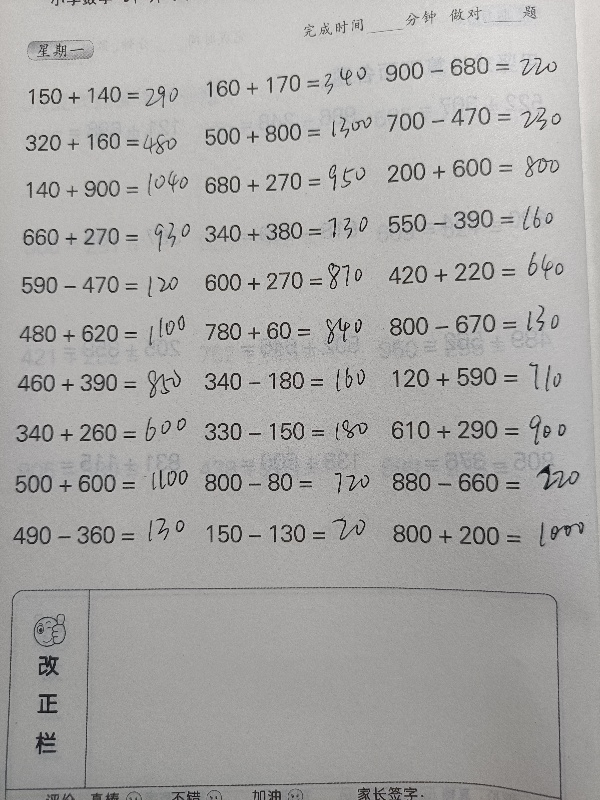equation: (379, 246, 577, 291), (383, 407, 577, 450), (378, 98, 568, 141), (12, 312, 192, 356), (8, 364, 188, 407), (196, 255, 376, 298), (196, 158, 376, 200), (8, 409, 188, 450), (380, 300, 574, 337), (196, 362, 376, 401), (379, 201, 559, 240), (199, 66, 379, 105), (14, 268, 194, 306), (21, 78, 201, 116), (383, 464, 590, 497), (384, 517, 587, 550), (196, 211, 376, 248), (19, 168, 199, 205), (17, 124, 197, 161), (196, 112, 376, 149), (378, 152, 568, 187), (199, 412, 377, 449), (383, 359, 575, 392), (5, 518, 185, 552), (197, 516, 377, 550), (7, 467, 187, 501), (196, 465, 376, 499), (198, 314, 378, 348), (14, 220, 194, 253), (381, 53, 560, 83)
